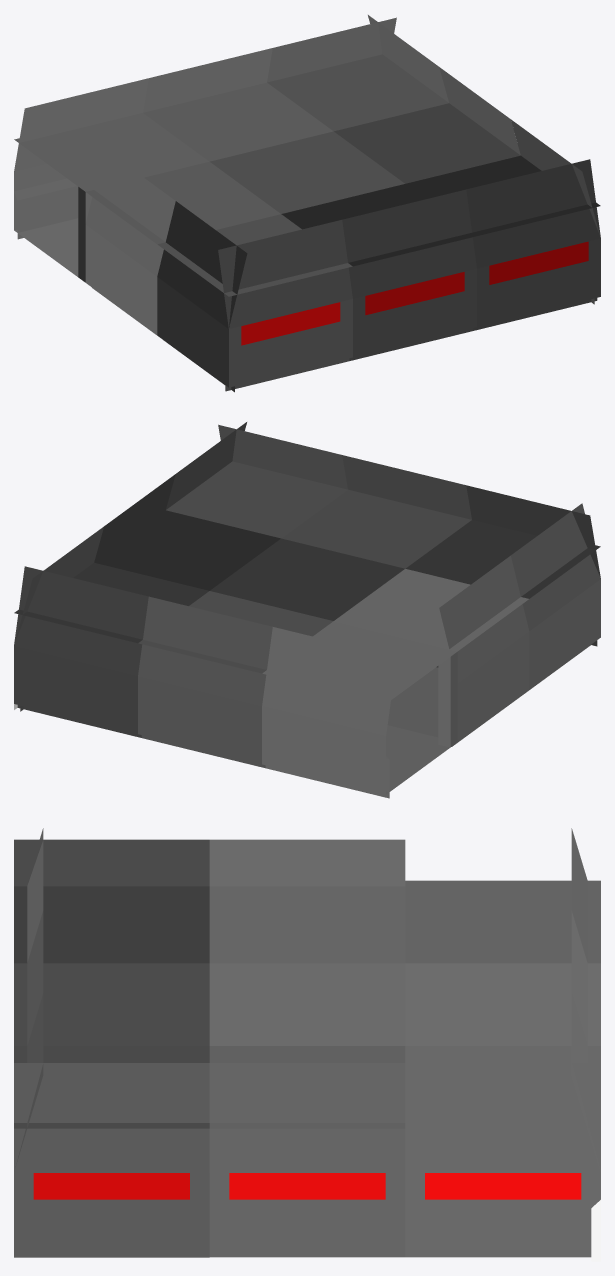
Rendered from obj_windowRoom_dylan.dae.
The picture shows the model from 3 angles, top to bottom: view 1: azimuth 30°, elevation 25°; view 2: azimuth 150°, elevation 25°; view 3: azimuth 270°, elevation 25°; orthographic projection. The views are drawn at different scales.
Visible parts, largest first — view 1: mesh9%%0%, mesh4%%0%, mesh11%%0%, mesh18%%0%, mesh17%%0%, mesh1%skp4F2E%0%, mesh13%skp4F2E%0%, mesh6%%0%, mesh15%skp4F2E%0%, mesh8%skp4F2E%0%, mesh16%skp4F2E%0%, mesh19%skp4F2E%0% (+12 smaller); view 2: mesh6%%0%, mesh5%%0%, mesh3%%1%, mesh18%%0%, mesh17%%0%, mesh13%skp4F2E%0%, mesh19%skp4F2E%0%, mesh10%skp4F2E%0%, mesh8%skp4F2E%0%, mesh7%skp4F2E%0%, mesh1%skp4F2E%0%, mesh14%skp4F2E%0% (+9 smaller); view 3: mesh12%%0%, mesh2%%0%, mesh20%%0%, mesh13%skp4F2E%0%, mesh19%skp4F2E%0%, mesh1%skp4F2E%0%, mesh10%skp4F2E%0%, mesh15%skp4F2E%0%, mesh14%skp4F2E%0%, mesh18%%0%, mesh17%%0%, mesh8%skp4F2E%0% (+12 smaller).
Part boxes in pixels (left/top/right/bottom): mesh9%%0%: left=342, top=189, right=476, bottom=360; mesh4%%0%: left=466, top=159, right=600, bottom=330; mesh11%%0%: left=218, top=220, right=352, bottom=391; mesh18%%0%: left=85, top=148, right=175, bottom=339; mesh17%%0%: left=157, top=201, right=247, bottom=392; mesh1%skp4F2E%0%: left=14, top=113, right=208, bottom=276; mesh13%skp4F2E%0%: left=210, top=131, right=404, bottom=213; mesh6%%0%: left=14, top=78, right=148, bottom=239; mesh15%skp4F2E%0%: left=143, top=82, right=333, bottom=161; mesh8%skp4F2E%0%: left=334, top=103, right=520, bottom=183; mesh16%skp4F2E%0%: left=267, top=54, right=448, bottom=131; mesh19%skp4F2E%0%: left=86, top=161, right=280, bottom=244; mesh6%%0%: left=262, top=627, right=396, bottom=798; mesh5%%0%: left=138, top=596, right=272, bottom=768; mesh3%%1%: left=14, top=566, right=148, bottom=737; mesh18%%0%: left=439, top=555, right=529, bottom=746; mesh17%%0%: left=511, top=503, right=600, bottom=694; mesh13%skp4F2E%0%: left=210, top=538, right=404, bottom=620; mesh19%skp4F2E%0%: left=334, top=569, right=528, bottom=737; mesh10%skp4F2E%0%: left=281, top=489, right=471, bottom=568; mesh8%skp4F2E%0%: left=94, top=510, right=280, bottom=590; mesh7%skp4F2E%0%: left=166, top=461, right=347, bottom=538; mesh1%skp4F2E%0%: left=262, top=621, right=457, bottom=794; mesh14%skp4F2E%0%: left=405, top=520, right=600, bottom=667; mesh12%%0%: left=209, top=1063, right=405, bottom=1257; mesh2%%0%: left=14, top=1063, right=209, bottom=1257; mesh20%%0%: left=405, top=1063, right=600, bottom=1257; mesh13%skp4F2E%0%: left=209, top=963, right=405, bottom=1045; mesh19%skp4F2E%0%: left=209, top=886, right=405, bottom=963; mesh1%skp4F2E%0%: left=405, top=880, right=600, bottom=963; mesh10%skp4F2E%0%: left=14, top=963, right=209, bottom=1045; mesh15%skp4F2E%0%: left=405, top=963, right=600, bottom=1045; mesh14%skp4F2E%0%: left=14, top=886, right=209, bottom=963; mesh18%%0%: left=209, top=839, right=405, bottom=886; mesh17%%0%: left=14, top=839, right=209, bottom=886; mesh8%skp4F2E%0%: left=209, top=1046, right=405, bottom=1128.
Bounding box in the file's own units: 0.3 × 0.105 × 0.3.
